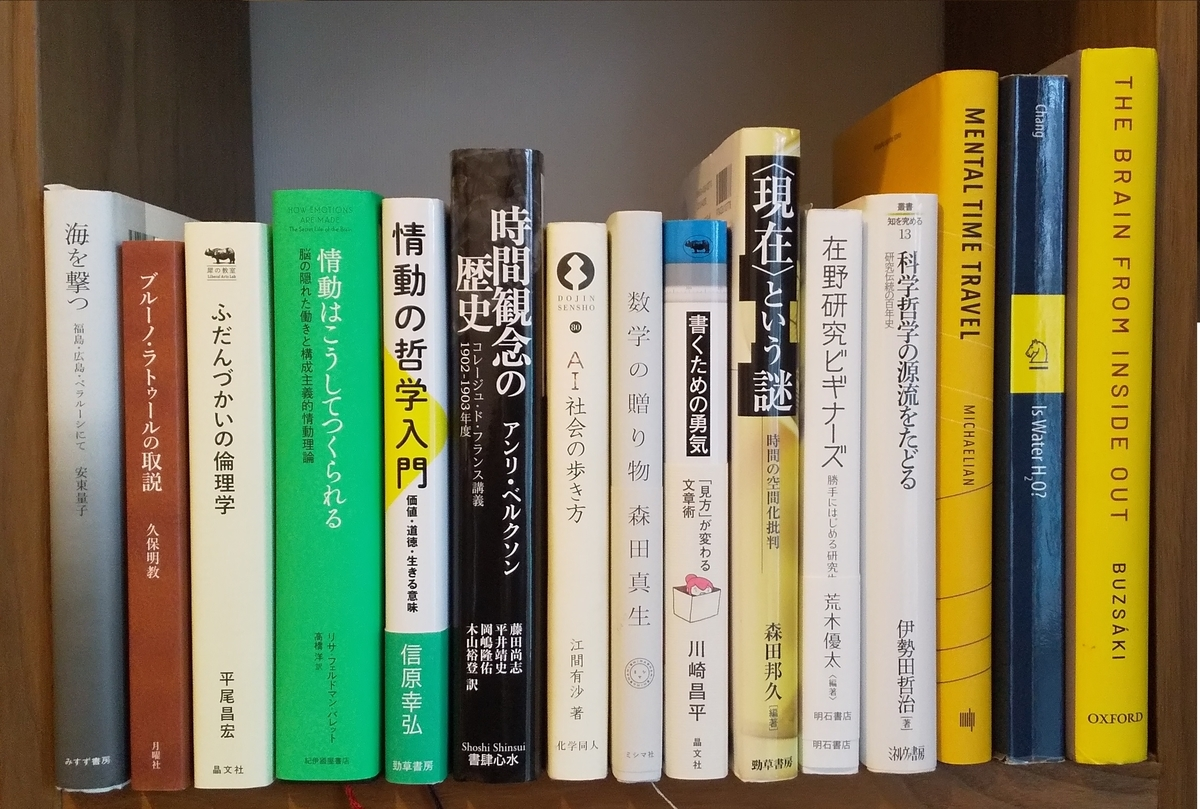book: (265, 182, 390, 793), (1065, 43, 1161, 768), (446, 141, 543, 782), (993, 66, 1075, 770), (727, 119, 809, 794), (182, 214, 275, 800), (40, 182, 124, 797), (933, 65, 1001, 774), (859, 190, 940, 776), (376, 191, 451, 787), (117, 237, 193, 796), (659, 212, 733, 780), (799, 201, 869, 779), (542, 217, 613, 782), (607, 205, 670, 787)
